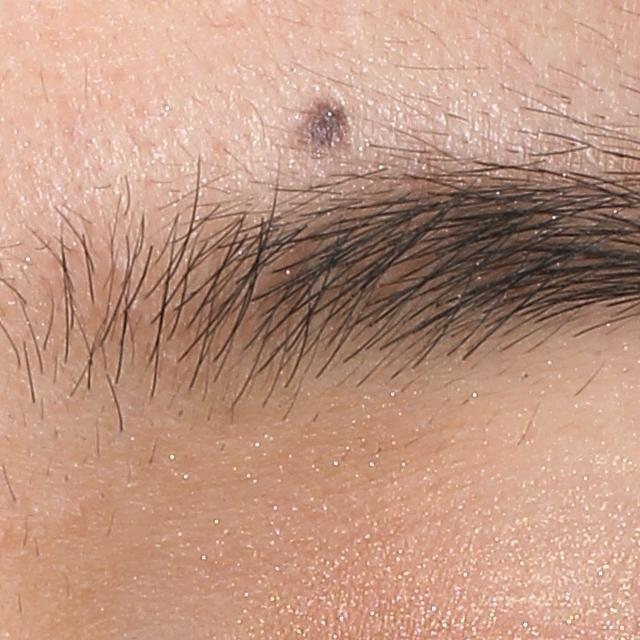nevus: (290, 100, 352, 163)
